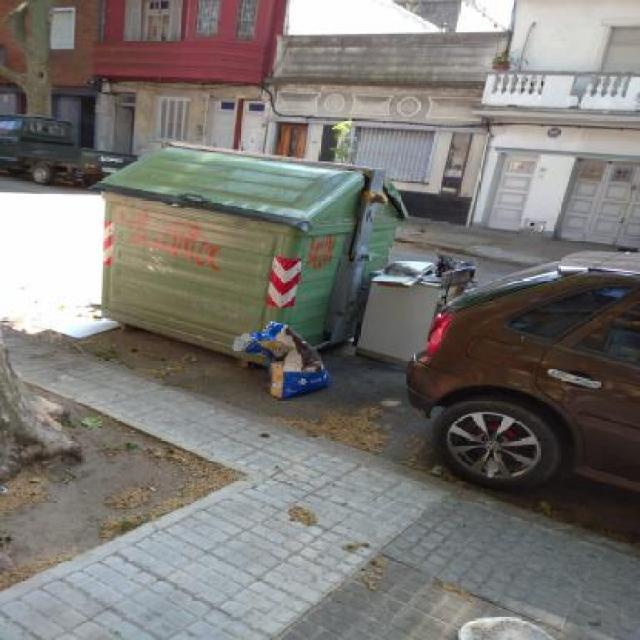garbage: (202, 297, 344, 428), (363, 243, 456, 366)
